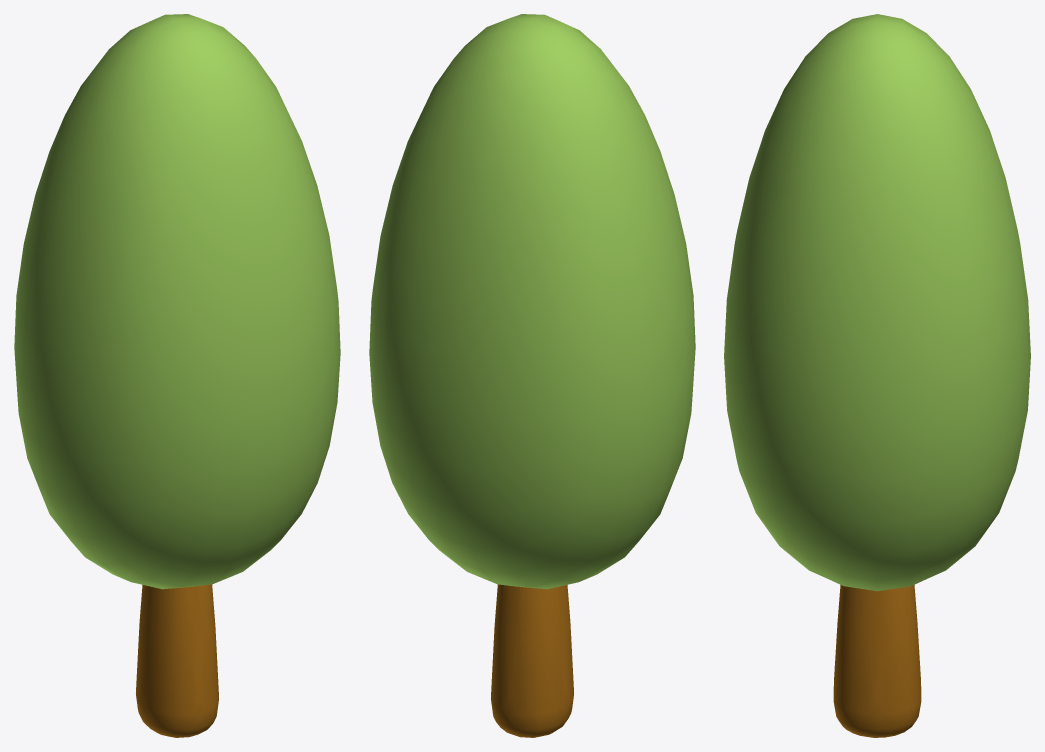
File: Tree1.fbx
The picture shows the model from 3 angles, left to right: view 1: azimuth 30°, elevation 25°; view 2: azimuth 150°, elevation 25°; view 3: azimuth 270°, elevation 25°; orthographic projection.
Visible parts, largest first — view 1: Tree1; view 2: Tree1; view 3: Tree1.
Boxes of the visible parts, x1=… form: Tree1: x1=14, y1=14, x2=340, y2=737; Tree1: x1=369, y1=14, x2=695, y2=737; Tree1: x1=724, y1=14, x2=1030, y2=737.
Bounding box in the file's own units: 3.35 × 8.03 × 3.14.
